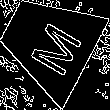M_NW: (17, 10, 80, 74)
